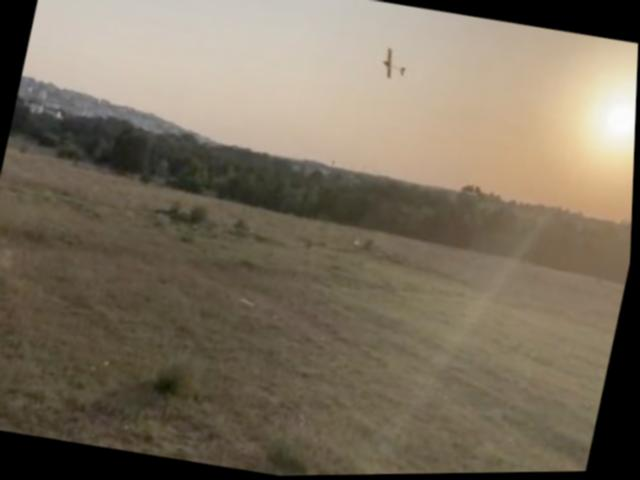uav: (376, 43, 413, 84)
